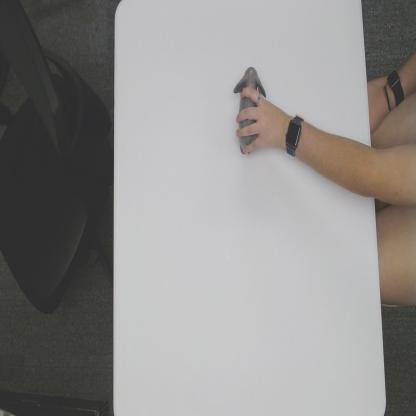Arm: (305, 118, 372, 200)
Elephant: (234, 65, 268, 155)
Hand: (236, 84, 282, 154)
